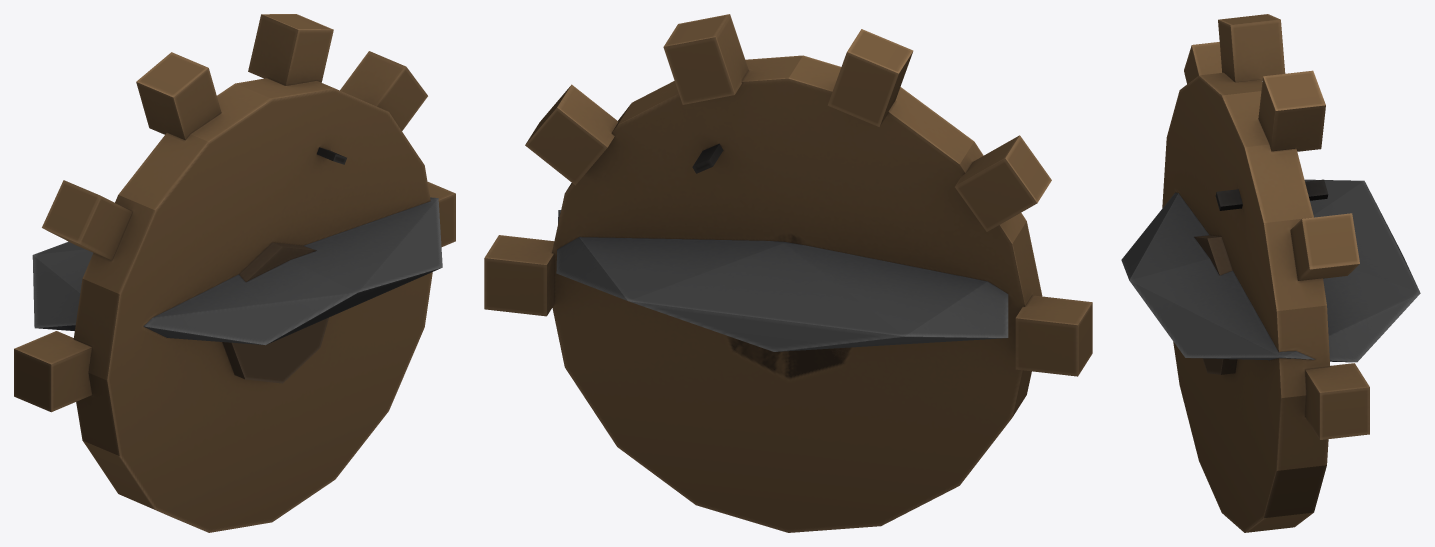
Rendered from sign_colossus_gear.glb.
The picture shows the model from 3 angles, left to right: view 1: azimuth 30°, elevation 25°; view 2: azimuth 150°, elevation 25°; view 3: azimuth 270°, elevation 25°; orthographic projection. The views are drawn at different scales.
Visible parts, largest first — view 1: sign_colossus_gear; view 2: sign_colossus_gear; view 3: sign_colossus_gear.
Boxes of the visible parts, x1,y1,x2,y2 form: sign_colossus_gear: (14, 14, 455, 532); sign_colossus_gear: (484, 14, 1092, 532); sign_colossus_gear: (1121, 14, 1420, 532).
Size of the model in its own units: 1.5 by 1.36 by 0.8061.
1 material, 1 textured.
